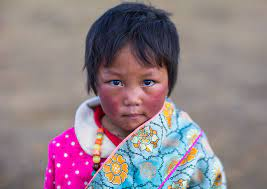person: (87, 2, 171, 130)
